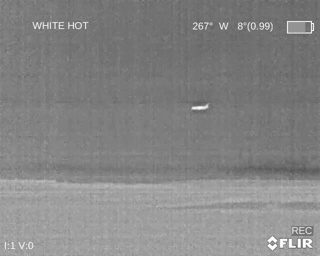AIRPLANE: (190, 103, 209, 111)
